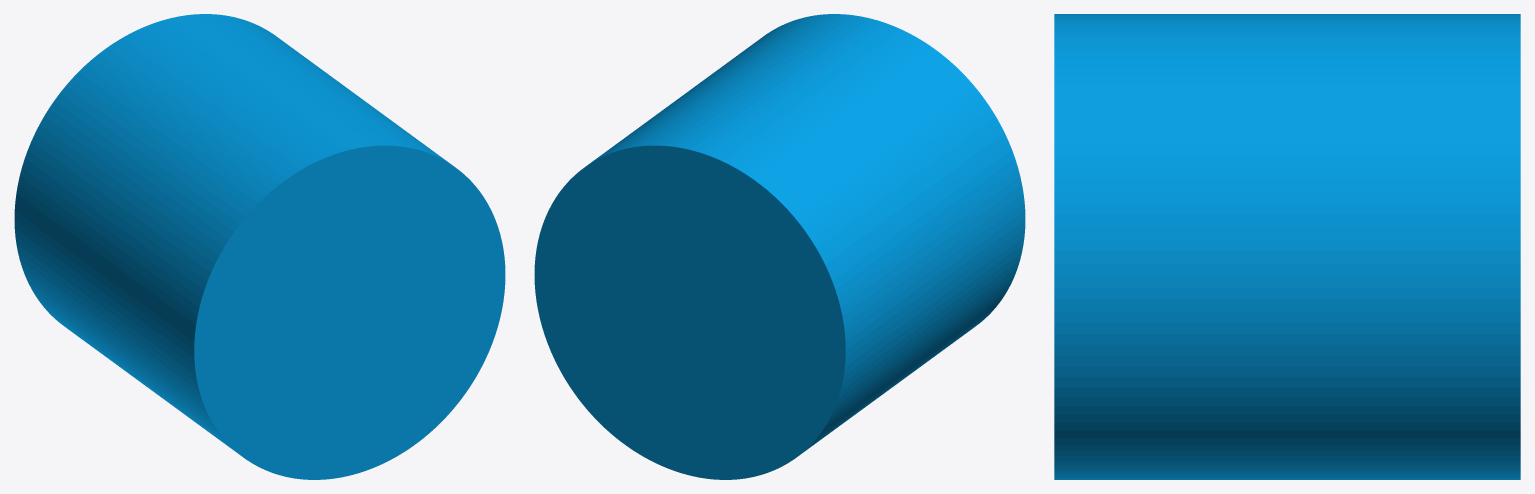
The model's file is Cilindro.obj.
3 views of the same model, side by side, from view 1: azimuth 30°, elevation 25°; view 2: azimuth 150°, elevation 25°; view 3: azimuth 270°, elevation 25° (orthographic). The views are drawn at different scales.
Visible parts, largest first — view 1: Object.1; view 2: Object.1; view 3: Object.1.
Part boxes in pixels (box(x1,y1,x2,y2)): Object.1: box(14, 14, 505, 479); Object.1: box(534, 14, 1025, 479); Object.1: box(1054, 14, 1520, 479).
Bounding box in the file's own units: 40 × 40 × 40.
